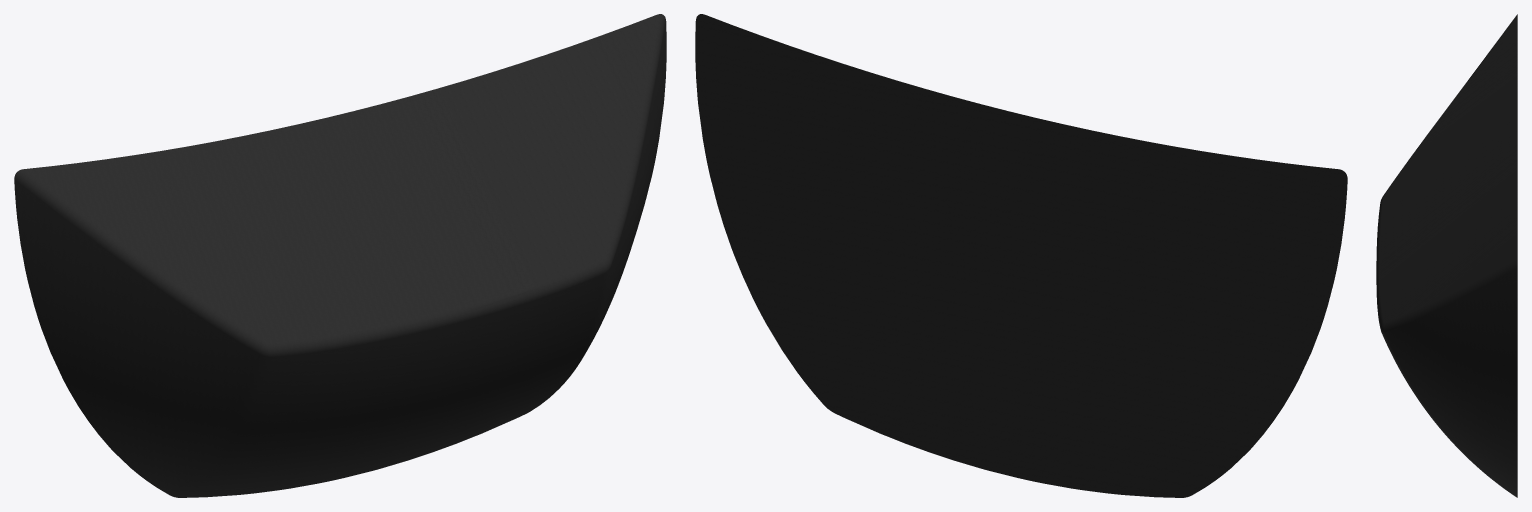
The model's file is hold_e_m_4v2.glb.
3 renders of one model, left to right at view 1: azimuth 30°, elevation 25°; view 2: azimuth 150°, elevation 25°; view 3: azimuth 270°, elevation 25°, orthographic. The views are drawn at different scales.
Visible parts, largest first — view 1: Object_2; view 2: Object_2; view 3: Object_2.
Part boxes in pixels (<box>): Object_2: <box>14,14,666,497</box>; Object_2: <box>695,14,1347,497</box>; Object_2: <box>1376,14,1517,497</box>.
Bounding box in the file's own units: 541 × 307 × 129.
Materials: 1 (1 with a texture image).
